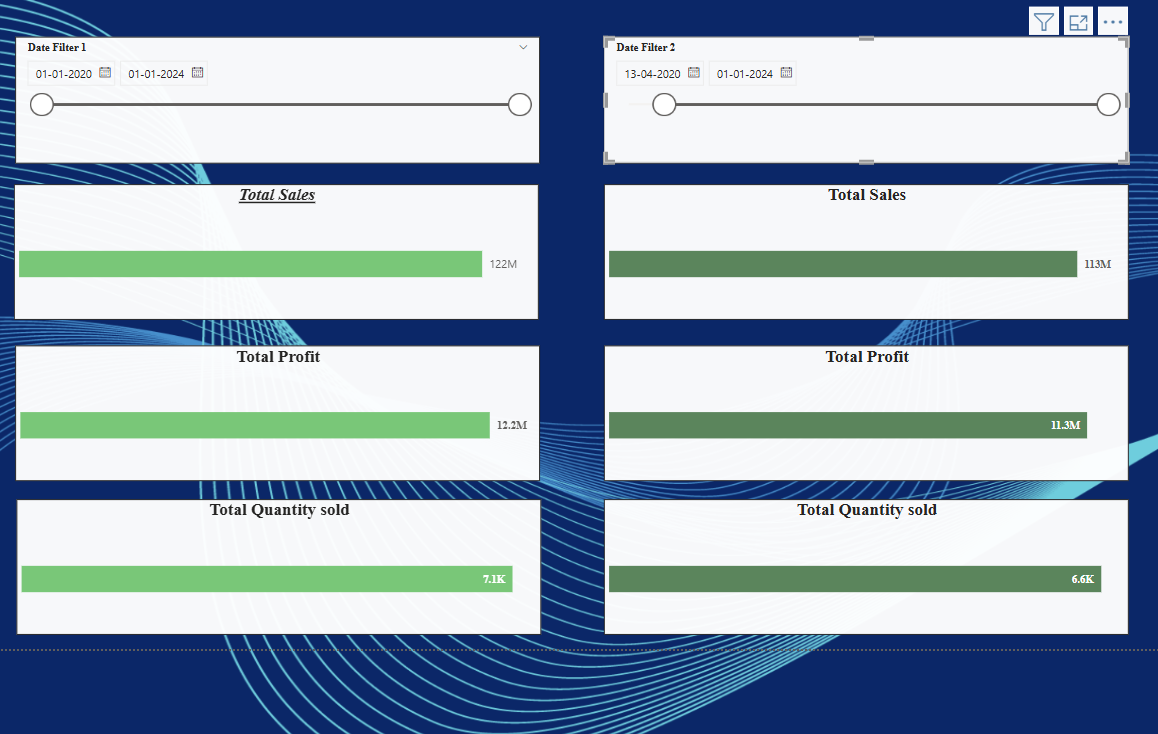

Layout of this report page (visuals, bound fields, positions):
{"tool":"powerbi","page":{"name":"Using Filter(Approach 2-BEST)","canvas":[1280,720],"ordinal":3},"visuals":[{"type":"slicer","fields":{"Values":["Fact table.Date (dd/mm/yyyy)"]},"box":[18.3,47.7,576,139.4],"z":0},{"type":"slicer","fields":{"Values":["Fact table.Date (dd/mm/yyyy)"]},"box":[664,47.7,576,139.4],"z":1000},{"type":"barChart","title":"Total Sales  ","fields":{"Y":["Sum(Fact table.Net Sales  )"]},"box":[17.1,210.3,576,149.2],"z":2000},{"type":"barChart","title":"Total Profit","fields":{"Y":["Sum(Fact table.Profit)"]},"box":[18.3,386.4,576,149.2],"z":3000},{"type":"barChart","title":"Total Quantity sold","fields":{"Y":["Sum(Fact table.Units Sold)"]},"box":[19.6,555.2,576,149.2],"z":4000},{"type":"barChart","title":"Total Sales  ","fields":{"Y":["Sum(Fact table.Net Sales  )"]},"box":[664,210.3,576,149.2],"z":5000},{"type":"barChart","title":"Total Profit","fields":{"Y":["Sum(Fact table.Profit)"]},"box":[664,386.4,576,149.2],"z":6000},{"type":"barChart","title":"Total Quantity sold","fields":{"Y":["Sum(Fact table.Units Sold)"]},"box":[664,555.2,576,149.2],"z":7000}]}

Visuals, with their boxes in screenshot pixels (x1, y1, x2, y2):
slicer - Fact table.Date (dd/mm/yyyy): x1=2 y1=29 x2=535 y2=158
slicer - Fact table.Date (dd/mm/yyyy): x1=599 y1=29 x2=1132 y2=158
"Total Sales  " barChart: x1=1 y1=179 x2=534 y2=317
"Total Profit" barChart: x1=2 y1=342 x2=535 y2=480
"Total Quantity sold" barChart: x1=3 y1=498 x2=536 y2=636
"Total Sales  " barChart: x1=599 y1=179 x2=1132 y2=317
"Total Profit" barChart: x1=599 y1=342 x2=1132 y2=480
"Total Quantity sold" barChart: x1=599 y1=498 x2=1132 y2=636
